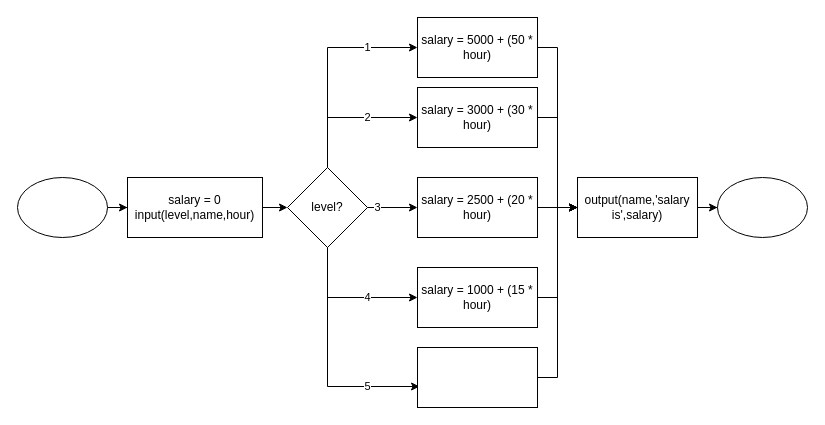
The diagram is 825 pixels wide and 425 high, and some of its shapes have lost their labels. The centre of each missing label's shape, as x and y in pixels:
End: the point at 762,207
salary = 500 + (10 * hour): the point at 477,377
Start: the point at 62,207
